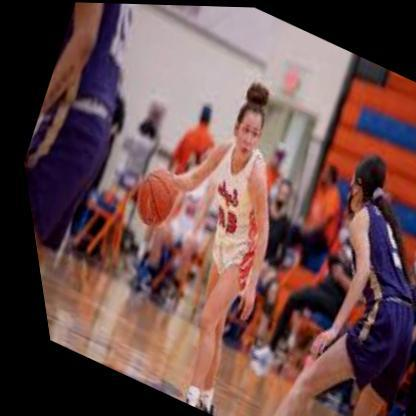basketball: (116, 160, 185, 234)
